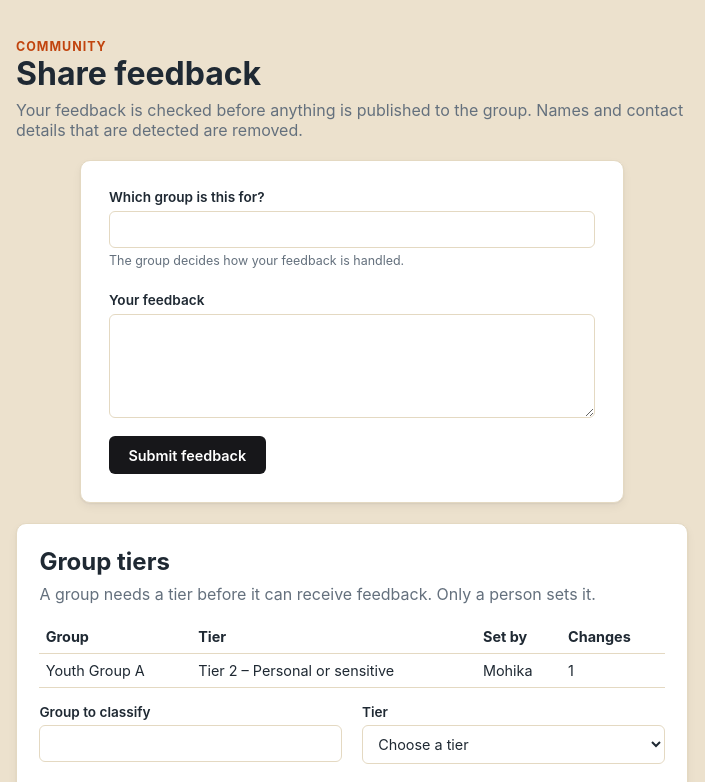
it: CommunitySubmissionPage (Story 24) › shows a flagged submission as waiting for review, not as published
Type "Youth Group A" into the field labelled "Which group is this for?" at point(352, 229), box x1=109 y1=211 x2=595 y2=248
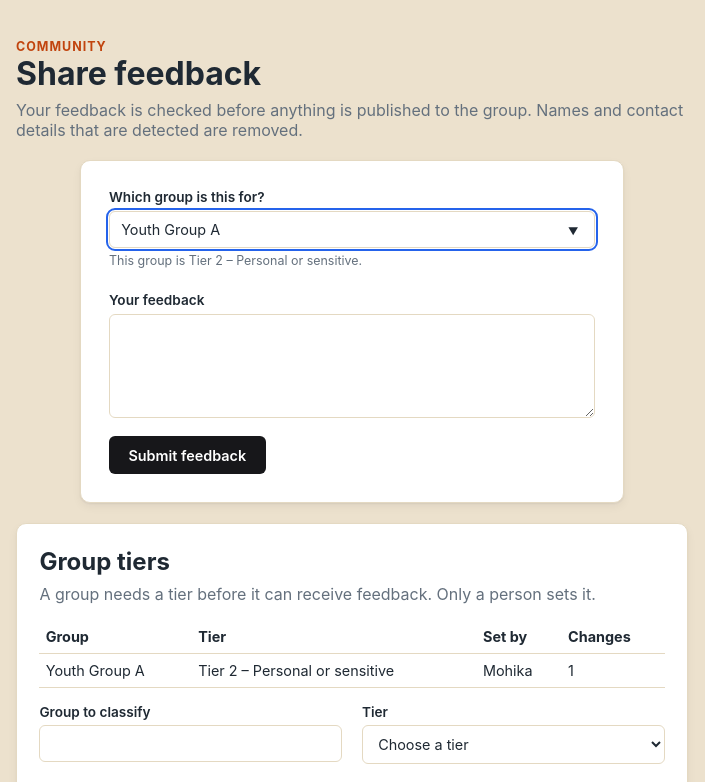
Type "Loved the session" into the text box labelled "Your feedback" at point(352, 366), box x1=109 y1=314 x2=595 y2=418
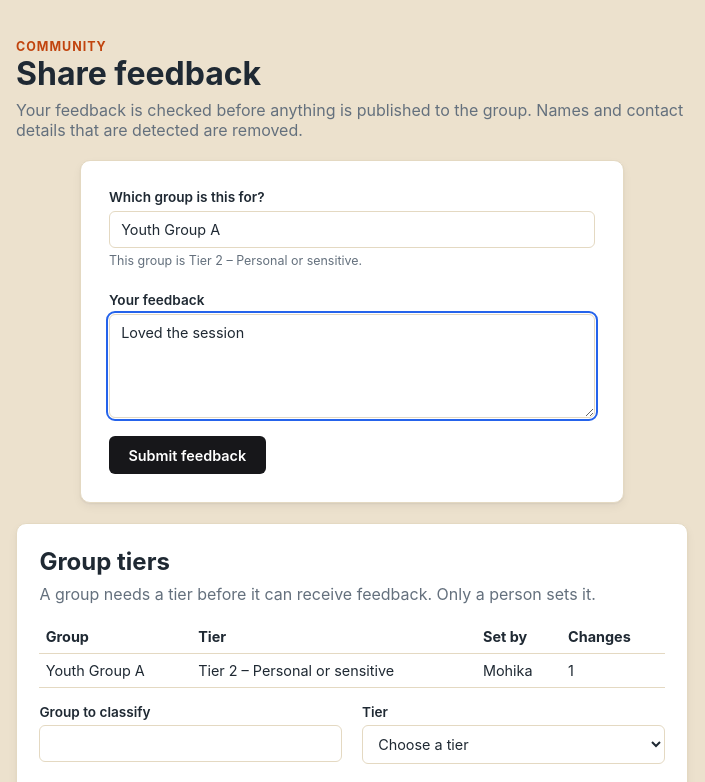
Click the button "Submit feedback" at point(187, 455), box x1=109 y1=436 x2=266 y2=474
(page scrolled)
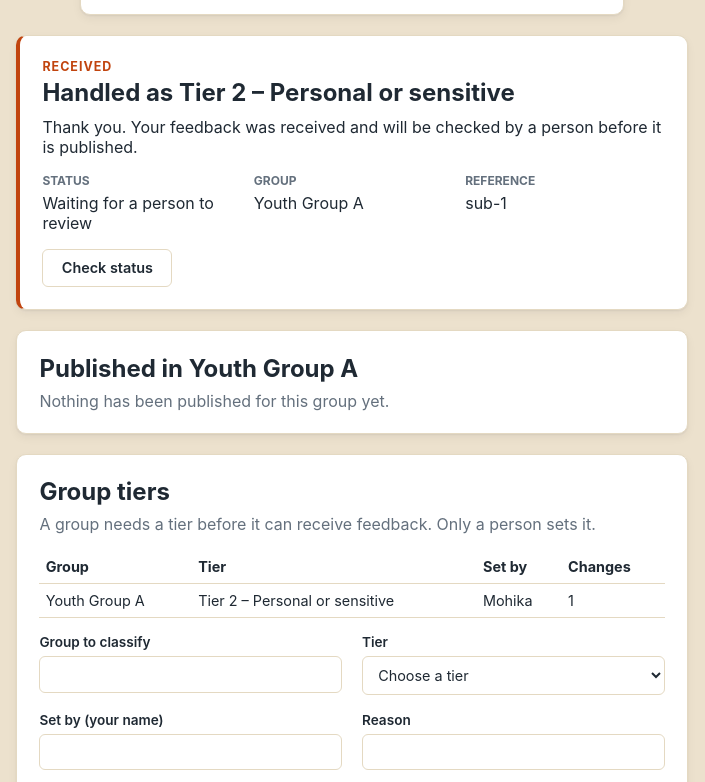
Check: the text "Waiting for a person to review" is shown, box x1=42 y1=193 x2=242 y2=233
Check: the button "Check status" is shown, box x1=42 y1=249 x2=172 y2=287
Check: the text "Nothing has been published for this group yet." is shown, box x1=39 y1=391 x2=389 y2=411
